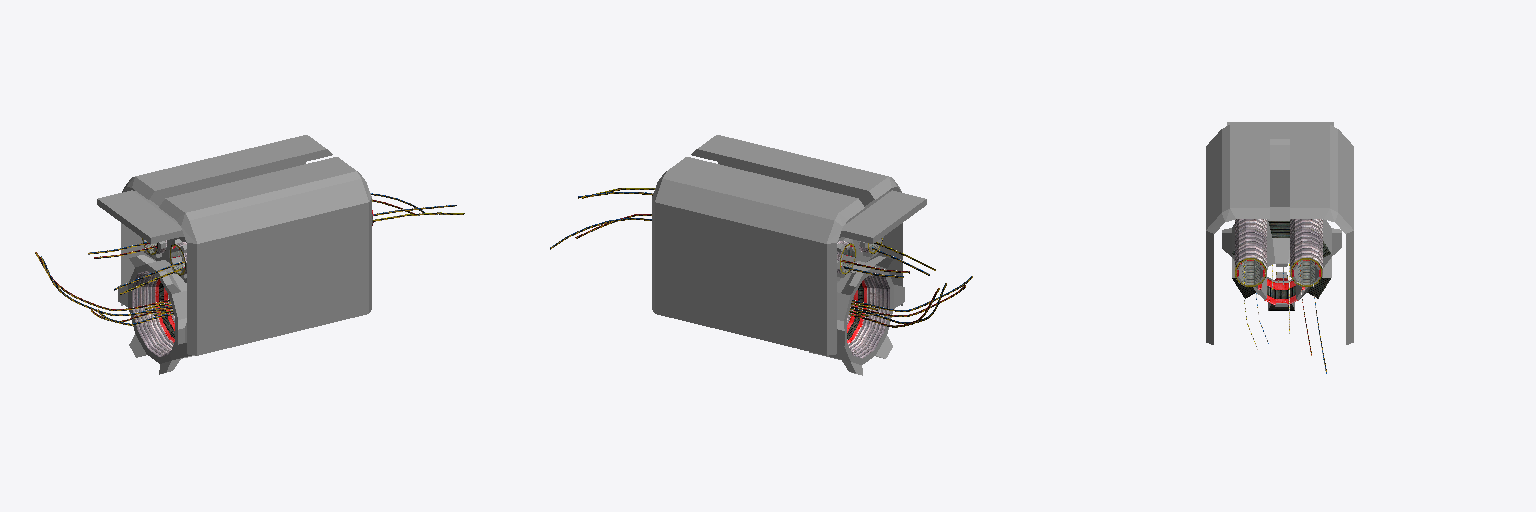
3 views of the same model, side by side, from view 1: azimuth 30°, elevation 25°; view 2: azimuth 150°, elevation 25°; view 3: azimuth 270°, elevation 25° (orthographic).
Parts seen in each view (by area): view 1: Object_2, obj1; view 2: Object_2, obj1; view 3: Object_2, obj1.
Part boxes in pixels (x1,y1,x2,y2): Object_2: (35,135,464,374); obj1: (138,243,184,356); Object_2: (550,135,972,375); obj1: (841,244,883,358); Object_2: (1206,122,1353,373); obj1: (1242,260,1315,304).
Bounding box in the file's own units: 2116 × 866 × 690.
37 materials, 7 textured.